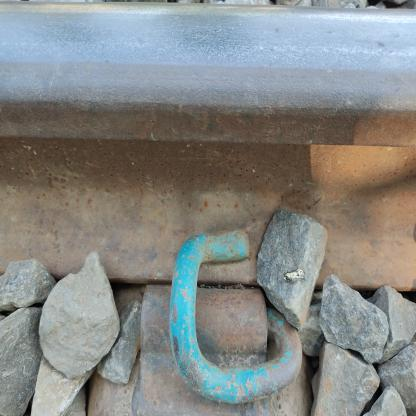Non Defective 1: (127, 189, 336, 406)
